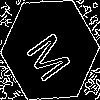M: (25, 24, 80, 85)
